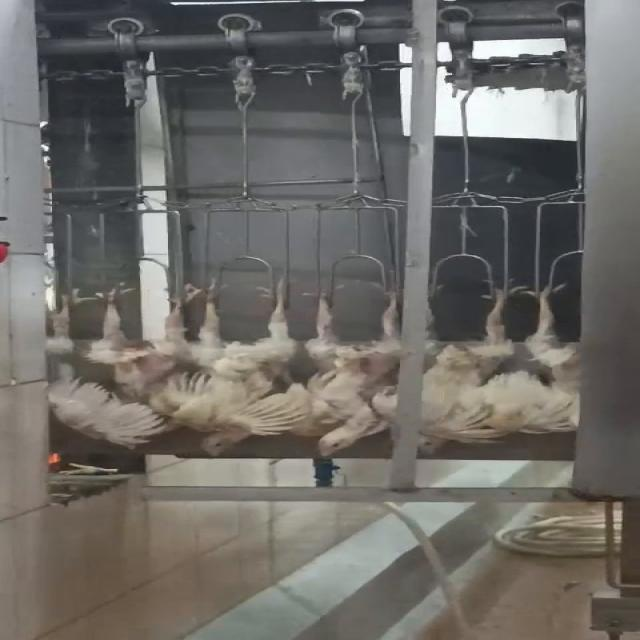chicken: (36, 291, 170, 455), (402, 279, 525, 456), (187, 274, 293, 460), (297, 290, 400, 460), (80, 273, 208, 406), (530, 277, 586, 432)
